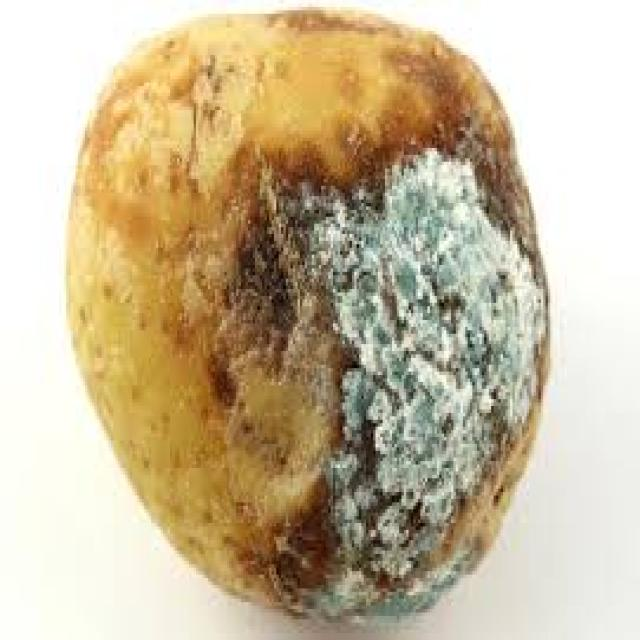food_waste: (66, 10, 548, 612)
